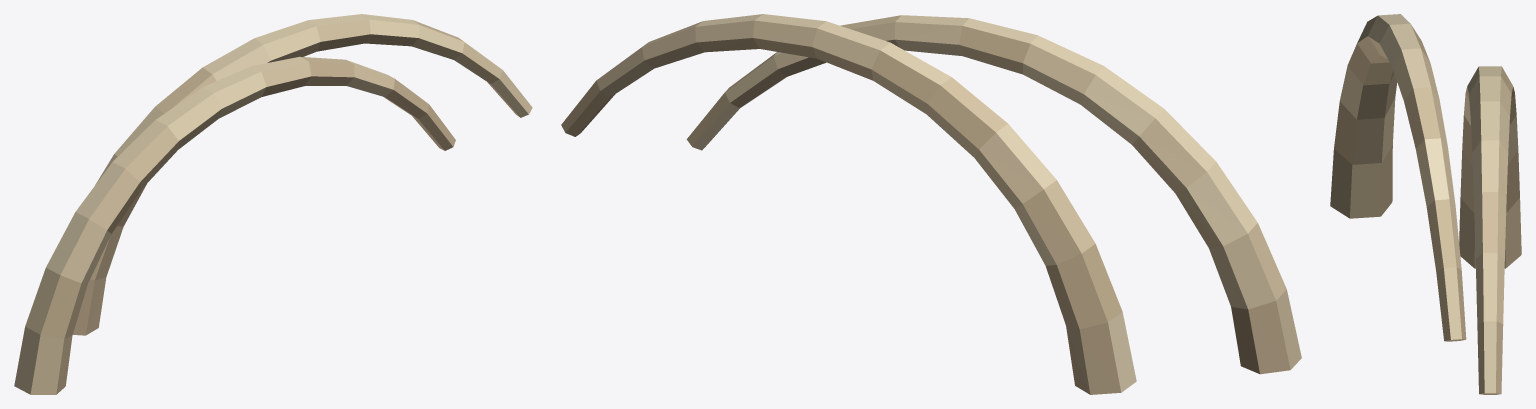
File: SM_BONE_RIB_03.fbx
3 views of the same model, side by side, from view 1: azimuth 30°, elevation 25°; view 2: azimuth 150°, elevation 25°; view 3: azimuth 270°, elevation 25° (orthographic). The views are drawn at different scales.
Parts seen in each view (by area): view 1: BONE_RIB_03; view 2: BONE_RIB_03; view 3: BONE_RIB_03.
Part boxes in pixels (x1=…): BONE_RIB_03: x1=14, y1=14, x2=532, y2=394; BONE_RIB_03: x1=561, y1=14, x2=1301, y2=394; BONE_RIB_03: x1=1330, y1=14, x2=1521, y2=394.
Bounding box in the file's own units: 3.49 × 0.8517 × 1.46.
